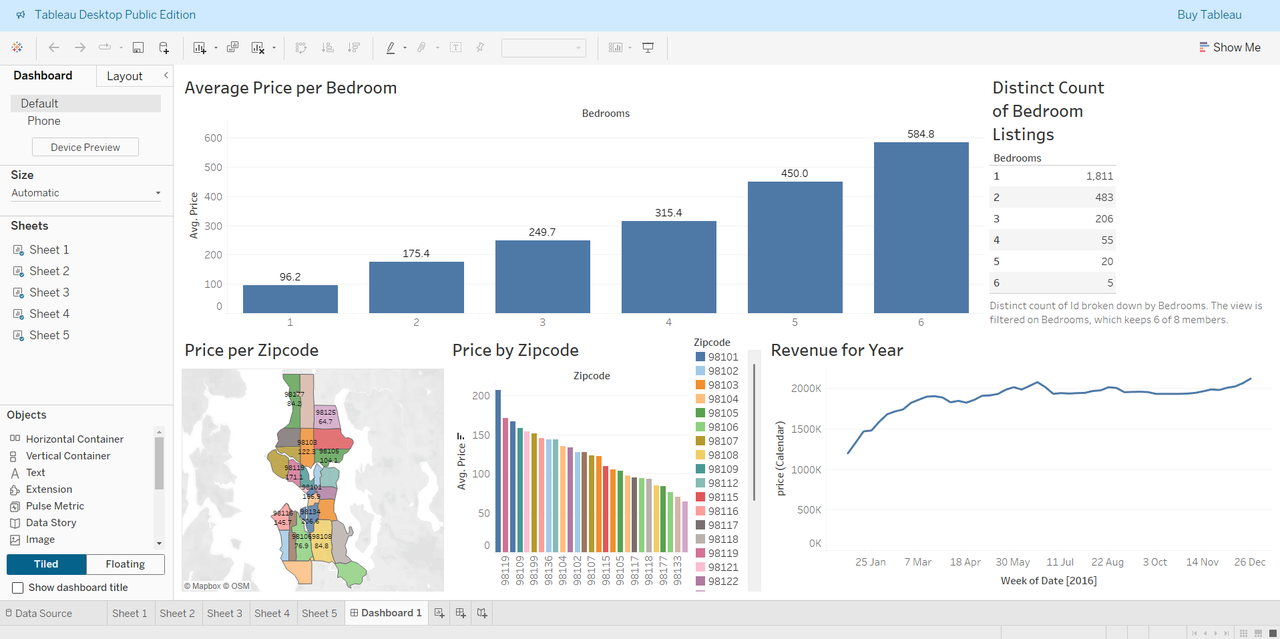

What the dashboard file says about the page in this screenshot:
{"tool":"tableau","page":{"name":"Dashboard 1","canvas":[1000,1000],"units":"permille","ordinal":0},"visuals":[{"type":"worksheet","title":"Sheet 4","mark":"Automatic","rows":["price"],"cols":["bedrooms"],"box":[9,10.1,723.8,489.9]},{"type":"worksheet","title":"Sheet 5","mark":"Automatic","rows":["bedrooms"],"box":[732.8,10.1,258.2,489.9]},{"type":"worksheet","title":"Sheet 2","mark":"Multipolygon","box":[9,500,240.1,489.9]},{"type":"worksheet","title":"Sheet 1","mark":"Automatic","rows":["price"],"cols":["zipcode"],"box":[249.1,500,218.7,489.9]},{"type":"legend","title":"Sheet 1","param":"[federated.0wjje430l8ru1g14v06f000ywji9].[none:zipcode:ok]","box":[467.9,500,66.5,489.9]},{"type":"worksheet","title":"Sheet 3","mark":"Automatic","rows":["price (Calendar)"],"cols":["date"],"box":[534.4,500,456.6,489.9]}]}

Visuals, with their boxes on the dashboard's canvas, which has no fixed pixel size, in thousandths of its width and height (x1, y1, x2, y2). These are canvas units, not pixel positions in the 1280x639 screenshot, which may show the page scaled, cropped or inside an application window:
"Sheet 4" worksheet: 9/10/733/500
"Sheet 5" worksheet: 733/10/991/500
"Sheet 2" worksheet (Multipolygon marks): 9/500/249/990
"Sheet 1" worksheet: 249/500/468/990
"Sheet 1" legend: 468/500/534/990
"Sheet 3" worksheet: 534/500/991/990
